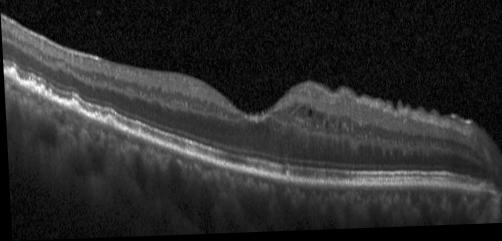intraretinal_cyst: (336, 123, 341, 131), (306, 111, 310, 120), (323, 124, 327, 131)
